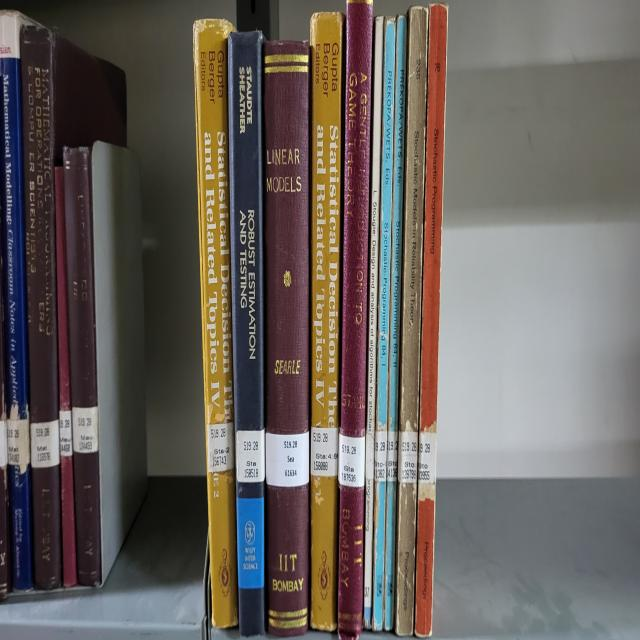Book: (20, 27, 126, 587), (194, 19, 239, 628), (228, 32, 265, 636), (338, 0, 372, 639), (395, 8, 429, 636), (310, 14, 344, 630), (0, 11, 32, 590), (264, 43, 310, 433), (64, 149, 101, 584), (371, 19, 395, 630), (384, 16, 406, 630), (362, 16, 384, 628), (55, 165, 78, 587)
Label: (265, 433, 309, 487), (6, 406, 30, 473), (236, 430, 265, 482), (30, 419, 60, 468), (310, 427, 339, 476), (339, 433, 365, 487), (208, 422, 234, 473), (72, 406, 99, 452), (399, 430, 418, 484), (419, 430, 436, 484), (375, 430, 388, 482), (59, 409, 72, 457), (386, 430, 398, 482)
